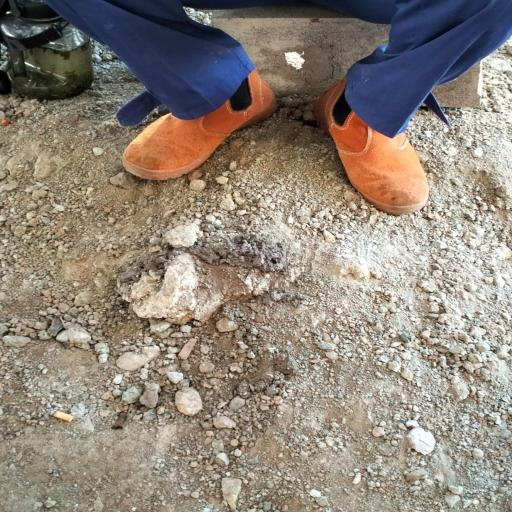not_safety_shoe: (112, 52, 282, 180), (314, 80, 434, 214)
